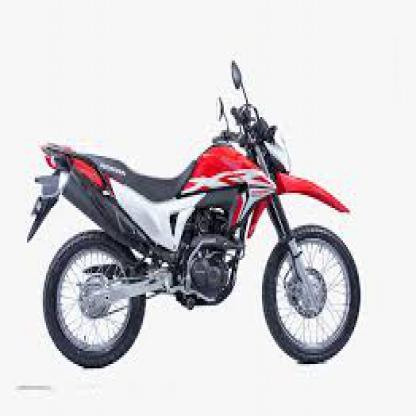Motorcycle: (30, 67, 364, 373)
